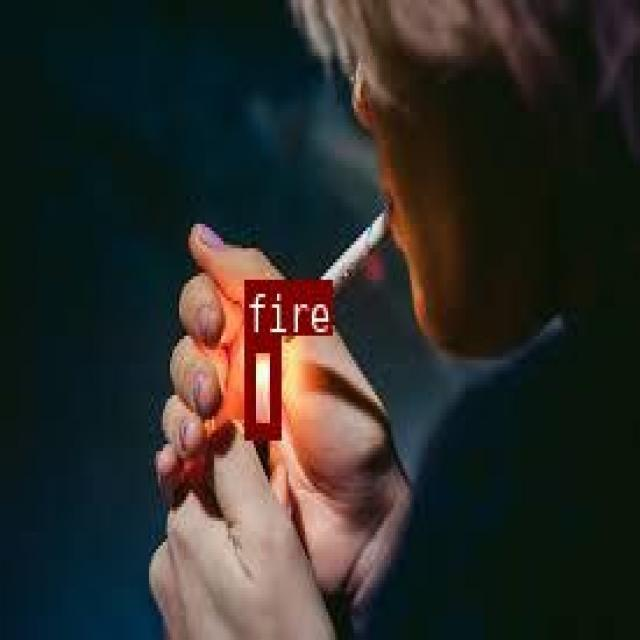fire: (243, 336, 277, 436)
